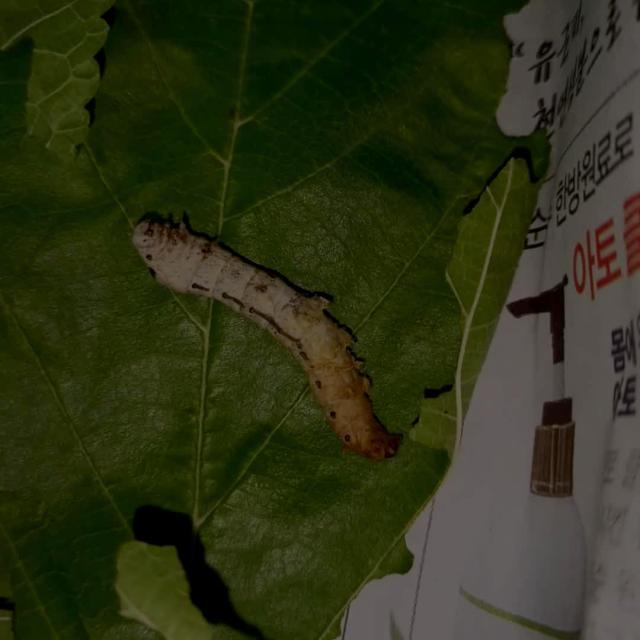Grasserie: (92, 195, 442, 484)
